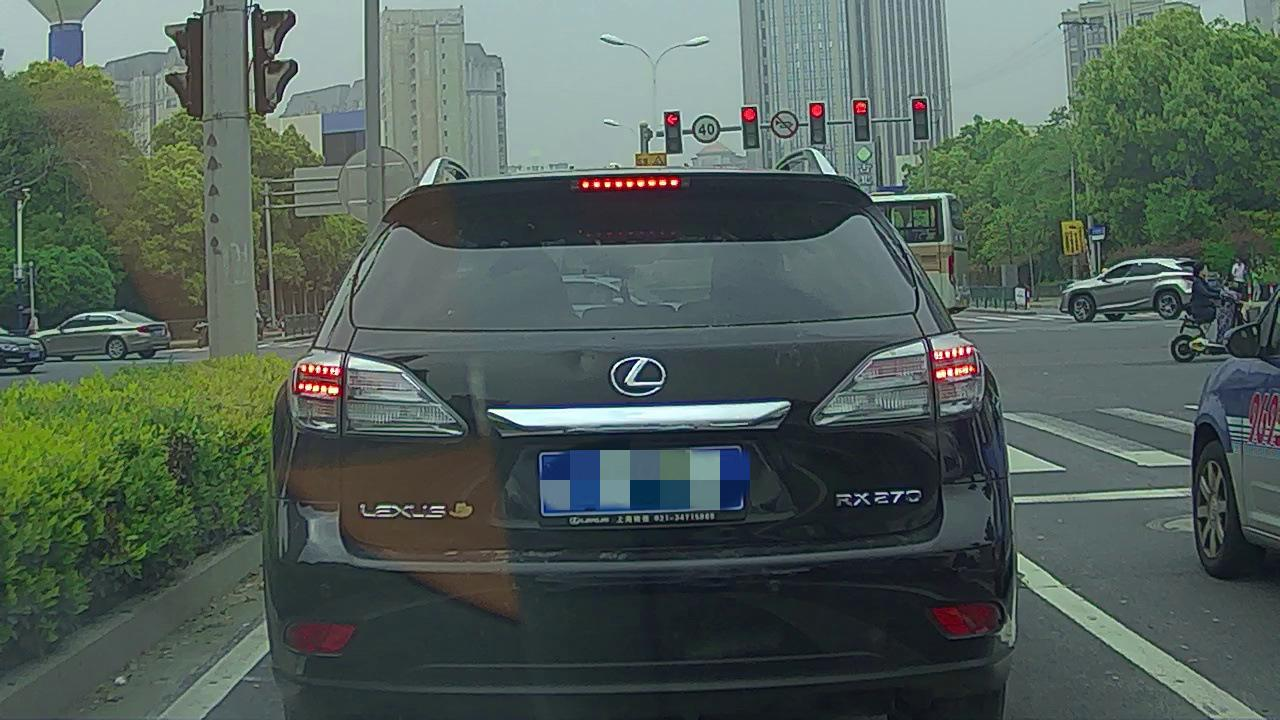traffic_light: (665, 111, 683, 154), (852, 100, 870, 143), (808, 103, 826, 145), (912, 98, 930, 140), (742, 104, 758, 148)
